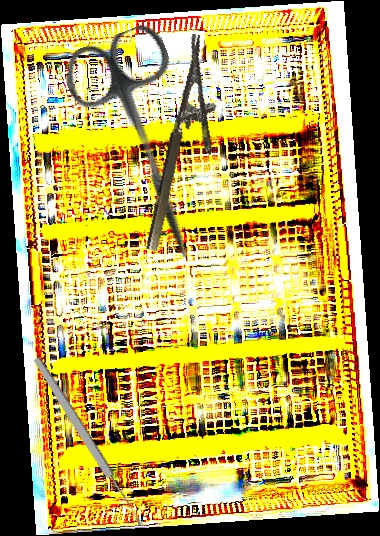Iris Scissors: (56, 19, 239, 276)
Needle Holder: (142, 33, 237, 259)
Surgical Spoon: (31, 355, 146, 529)
